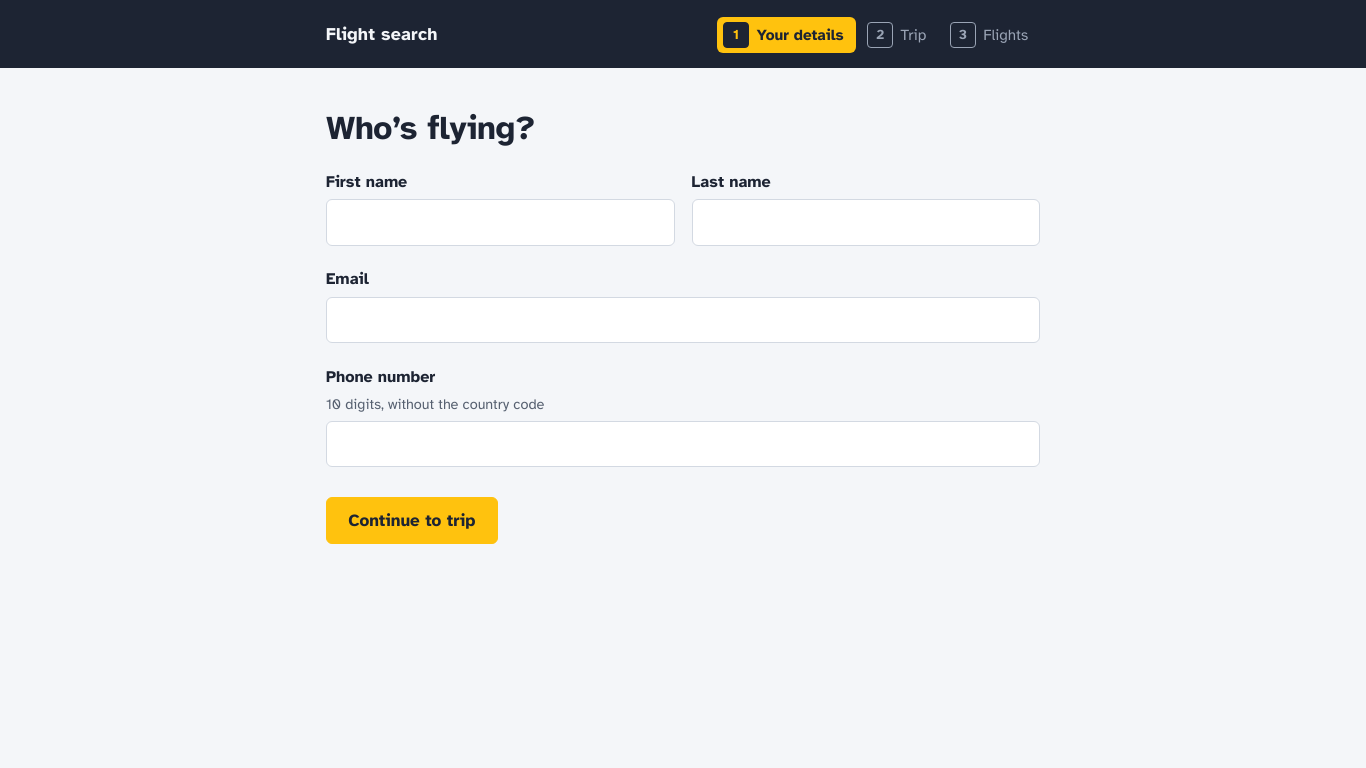
Test: step 1: traveller details › blocks Continue, lists every missing field, and focuses the first one
The width and height of the screenshot is (1366, 768).
Click the button "Continue to trip" at (412, 520), box [326,497,498,544]
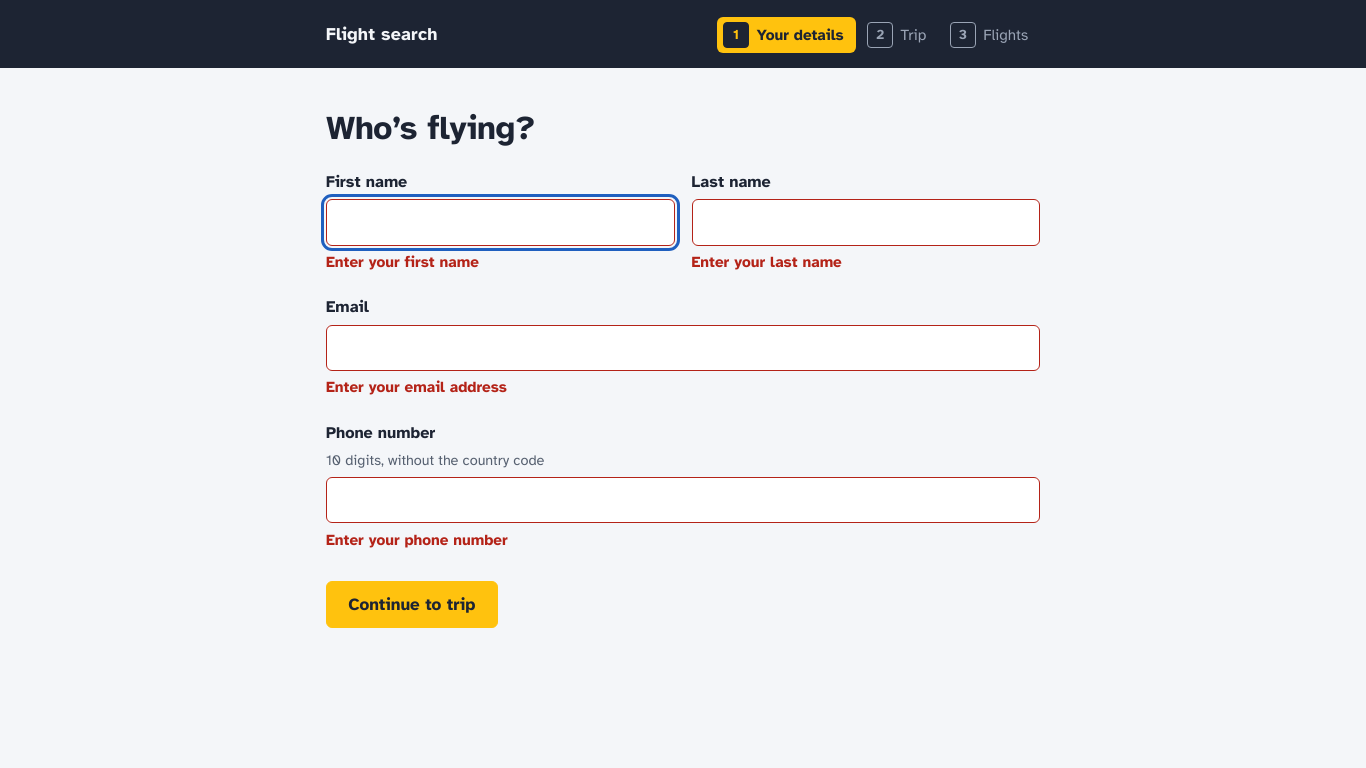
Now the text "Enter your first name" is shown, box [326,252,479,271]
Now the text "Enter your last name" is shown, box [692,252,842,271]
Now the text "Enter your email address" is shown, box [326,377,507,396]
